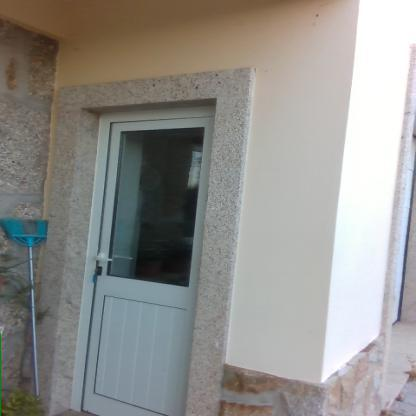door: (83, 109, 215, 415)
lever: (92, 255, 114, 263)
